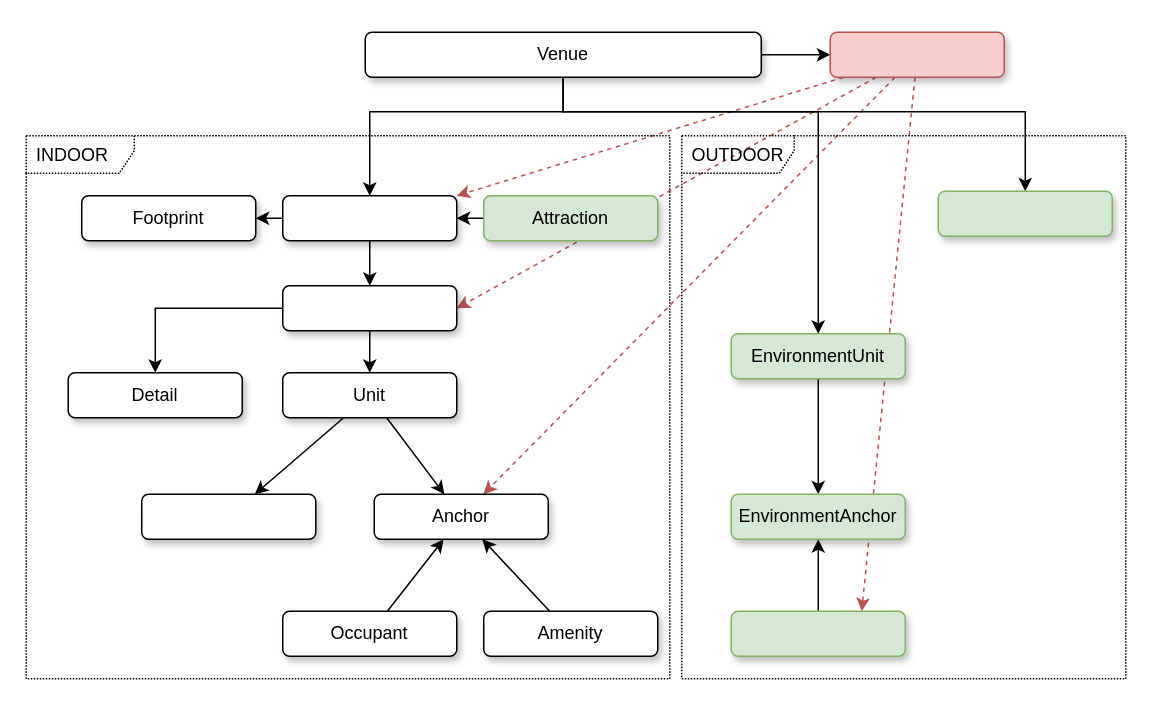
The diagram is 1152 pixels wide and 705 high, and some of its shapes have lost their labels. The shapes that lost their labels are listed below. From the top down, each one's centre as x and y in pixels, then its label:
pixel 918 56: PathGraph
pixel 370 219: Building
pixel 1026 215: EnvironmentDetail
pixel 370 309: Level
pixel 229 518: Oppening
pixel 819 635: EnvironmentAmenity
